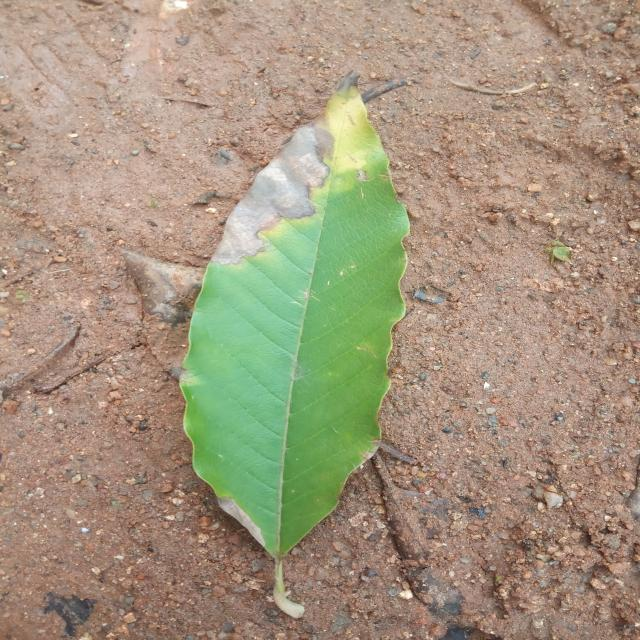coffee leaf rust: (182, 74, 408, 618)
